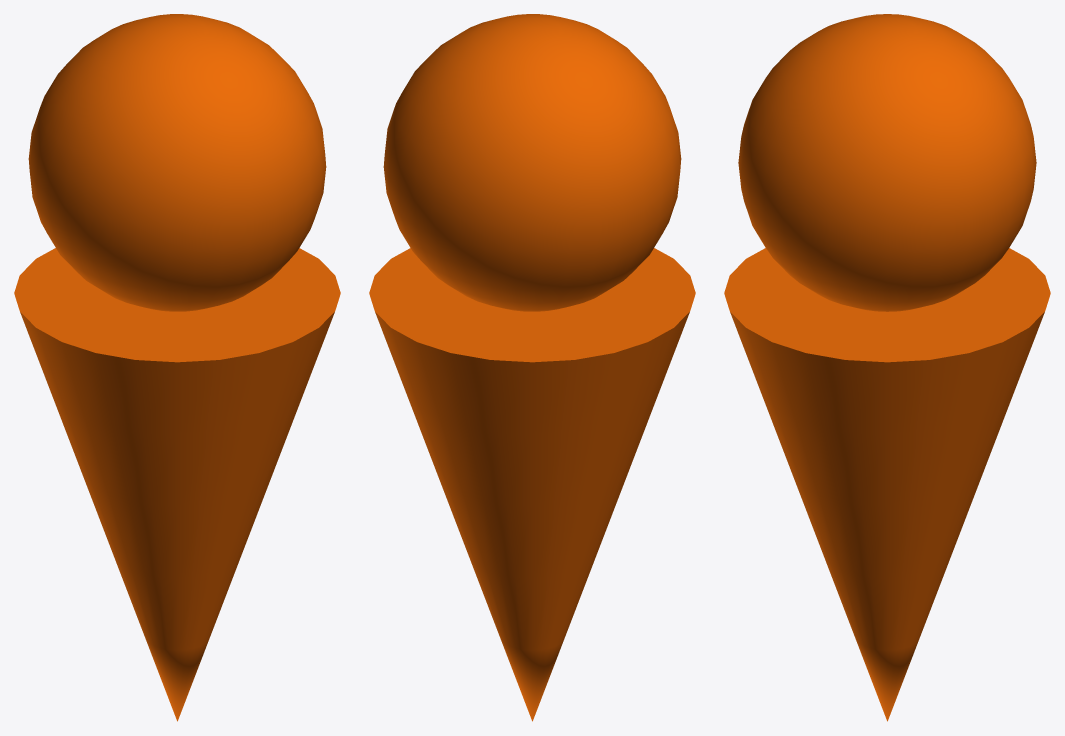
3 renders of one model, left to right at view 1: azimuth 30°, elevation 25°; view 2: azimuth 150°, elevation 25°; view 3: azimuth 270°, elevation 25°, orthographic.
Parts seen in each view (by area): view 1: Cone001; view 2: Cone001; view 3: Cone001.
Part boxes in pixels (x1,y1,x2,y2): Cone001: [14, 14, 340, 721]; Cone001: [369, 14, 695, 721]; Cone001: [724, 14, 1050, 721].
Size of the model in its own units: 0.7629 by 1.79 by 0.7629.
